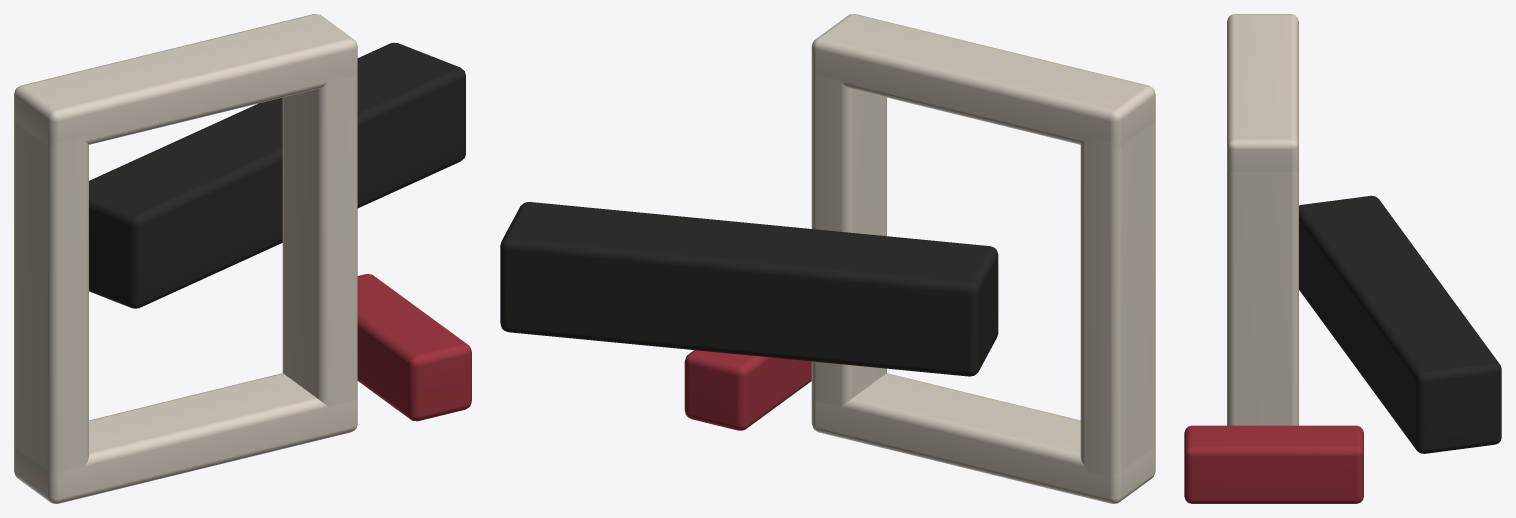
File: VSV-002.glb
3 renders of one model, left to right at view 1: azimuth 30°, elevation 25°; view 2: azimuth 150°, elevation 25°; view 3: azimuth 270°, elevation 25°, orthographic. The views are drawn at different scales.
Parts seen in each view (by area): view 1: VSV-002_interlock__crossbar, VSV-002_interlock__first left, VSV-002_interlock__first top, VSV-002_interlock__first right, VSV-002_interlock__first bottom, VSV-002_interlock__key; view 2: VSV-002_interlock__crossbar, VSV-002_interlock__first left, VSV-002_interlock__first top, VSV-002_interlock__first bottom, VSV-002_interlock__first right, VSV-002_interlock__key; view 3: VSV-002_interlock__crossbar, VSV-002_interlock__first right, VSV-002_interlock__key, VSV-002_interlock__first top.
Boxes of the visible parts, x1,y1,x2,y2 form: VSV-002_interlock__crossbar: [89, 42, 465, 308]; VSV-002_interlock__first left: [14, 120, 88, 476]; VSV-002_interlock__first top: [14, 14, 357, 147]; VSV-002_interlock__first right: [282, 69, 357, 409]; VSV-002_interlock__first bottom: [14, 373, 357, 503]; VSV-002_interlock__key: [357, 274, 471, 421]; VSV-002_interlock__crossbar: [500, 202, 998, 376]; VSV-002_interlock__first left: [1080, 120, 1155, 477]; VSV-002_interlock__first top: [811, 14, 1155, 147]; VSV-002_interlock__first bottom: [811, 373, 1155, 503]; VSV-002_interlock__first right: [811, 68, 886, 411]; VSV-002_interlock__key: [684, 350, 811, 430]; VSV-002_interlock__crossbar: [1299, 195, 1501, 453]; VSV-002_interlock__first right: [1227, 167, 1298, 425]; VSV-002_interlock__key: [1184, 425, 1363, 503]; VSV-002_interlock__first top: [1227, 14, 1298, 171].
Bounding box in the file's own units: 2.35 × 1.68 × 1.41.
